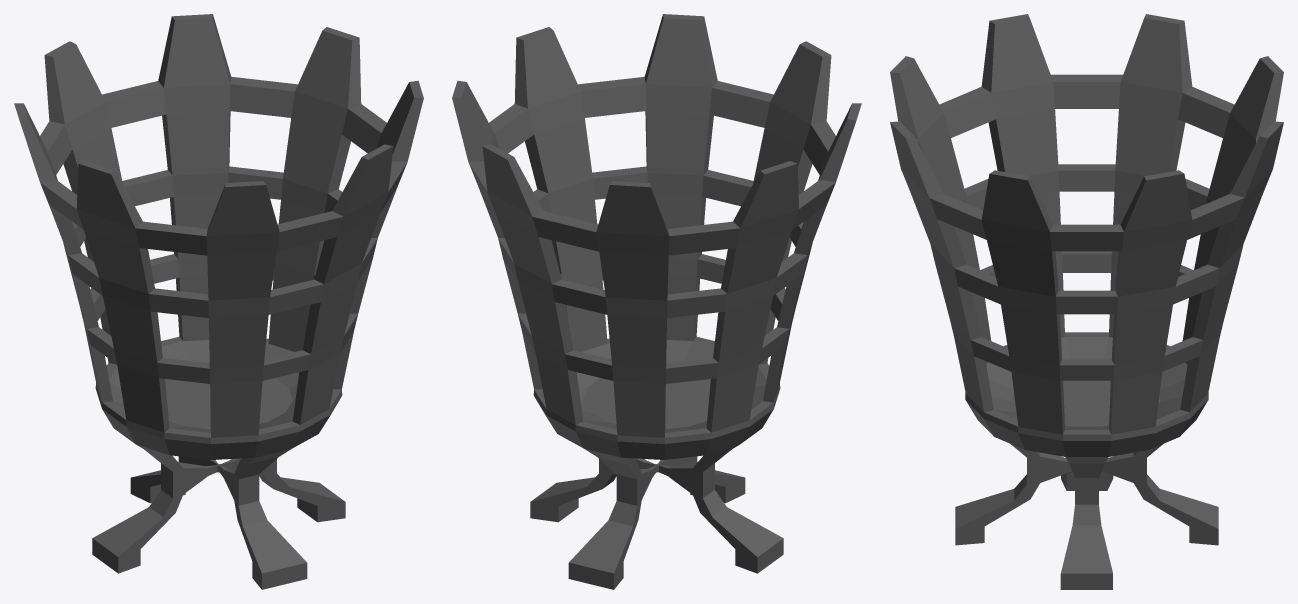
The model's file is FireBasket.fbx.
The picture shows the model from 3 angles, left to right: view 1: azimuth 30°, elevation 25°; view 2: azimuth 150°, elevation 25°; view 3: azimuth 270°, elevation 25°; orthographic projection.
Visible parts, largest first — view 1: FireBasket; view 2: FireBasket; view 3: FireBasket.
Boxes of the visible parts, <box> form: FireBasket: <box>14,14,423,589</box>; FireBasket: <box>452,14,861,589</box>; FireBasket: <box>890,14,1283,589</box>.
Size of the model in its own units: 61.78 by 75.64 by 61.78.
Materials: 1 (1 with a texture image).
